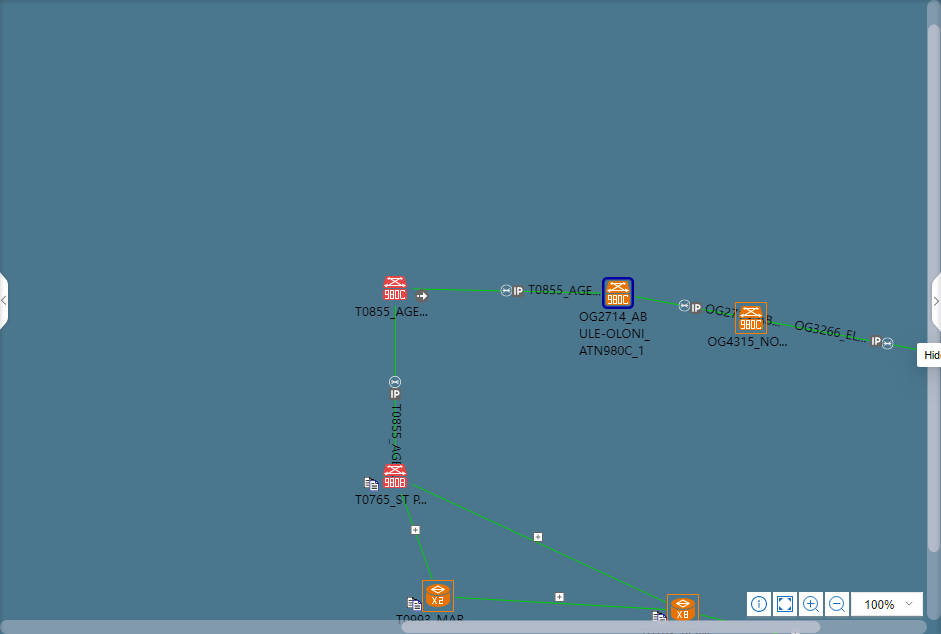ATN_Orange: (602, 280, 632, 308), (737, 306, 764, 332)
ATN_Red: (383, 464, 406, 489), (383, 277, 406, 300)
Link_Green: (412, 483, 666, 605), (768, 320, 915, 353), (455, 596, 665, 613), (399, 494, 433, 580), (637, 295, 733, 318), (413, 288, 601, 297), (393, 304, 398, 461)
Router_Orange: (424, 582, 451, 610), (667, 595, 696, 621)
